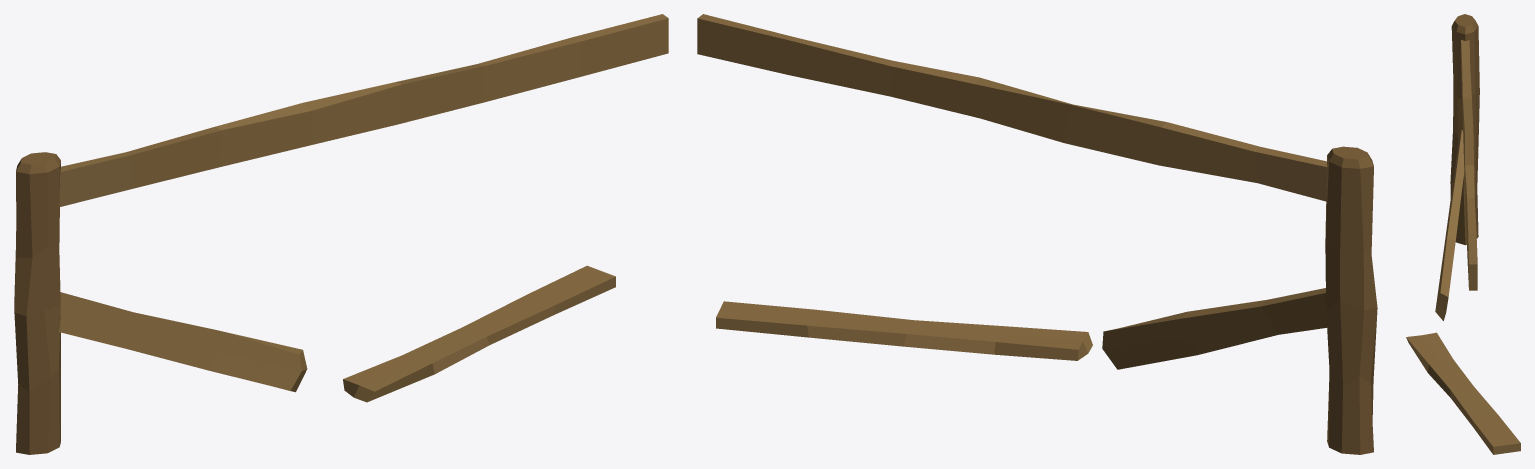
Rendered from FenceBroken.fbx.
3 views of the same model, side by side, from view 1: azimuth 30°, elevation 25°; view 2: azimuth 150°, elevation 25°; view 3: azimuth 270°, elevation 25° (orthographic). The views are drawn at different scales.
Visible parts, largest first — view 1: Cube.012; view 2: Cube.012; view 3: Cube.012.
Boxes of the visible parts, x1,y1,x2,y2 form: Cube.012: (14, 14, 668, 454); Cube.012: (697, 14, 1377, 454); Cube.012: (1406, 14, 1520, 454).
Bounding box in the file's own units: 314 × 131 × 63.22.
